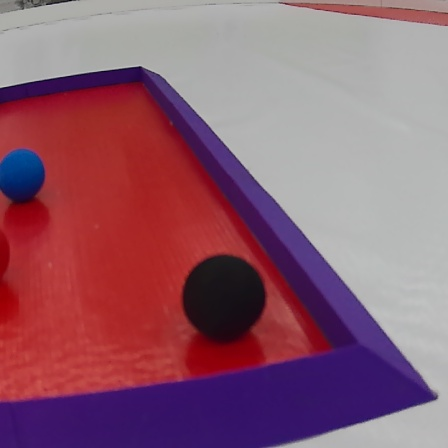black: (179, 255, 272, 344)
blue: (2, 142, 47, 205)
red_aim: (3, 59, 448, 448)
